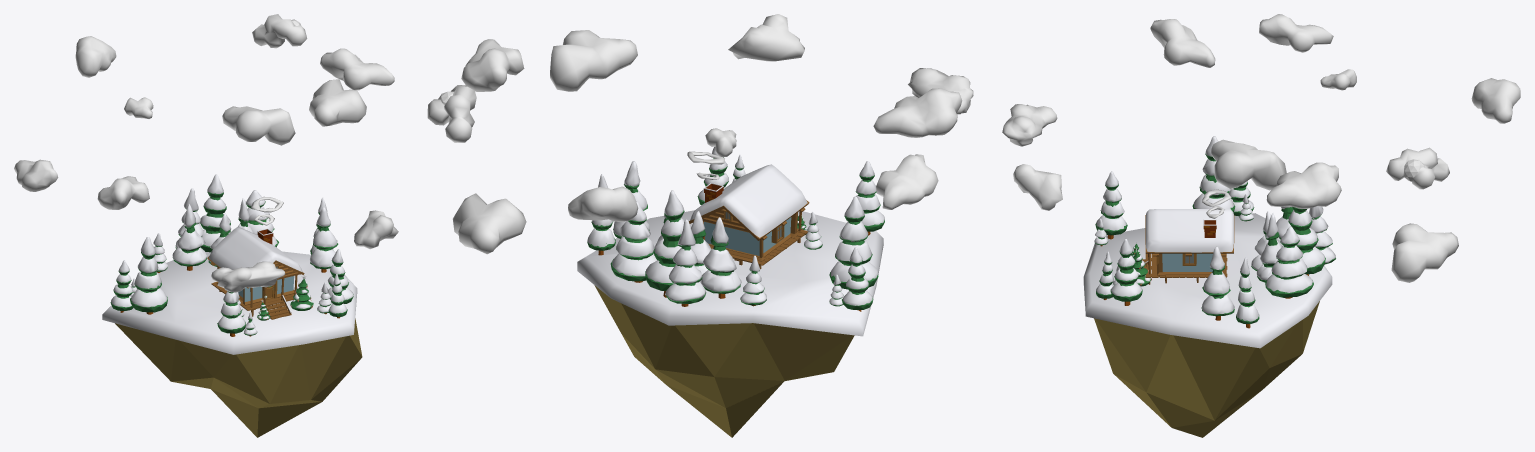
Rendered from chrismas1.fbx.
3 renders of one model, left to right at view 1: azimuth 30°, elevation 25°; view 2: azimuth 150°, elevation 25°; view 3: azimuth 270°, elevation 25°, orthographic. The views are drawn at different scales.
Parts seen in each view (by area): view 1: island, Cloud.002, tree, House, decor_tree, Torus; view 2: island, Cloud.002, tree, House; view 3: island, Cloud.002, tree, House.
Boxes of the visible parts, x1,y1,x2,y2 form: island: (102,251,362,437); Cloud.002: (14,14,398,292); tree: (110,174,353,336); House: (207,227,304,319); decor_tree: (257,275,313,320); Torus: (251,196,283,225); island: (577,210,883,437); Cloud.002: (427,14,973,254); tree: (587,146,884,311); House: (689,164,809,268); island: (1083,213,1332,437); Cloud.002: (1002,14,1520,282); tree: (1094,136,1335,328); House: (1141,209,1234,284).
Size of the model in its own units: 31628 by 26340 by 35005.
